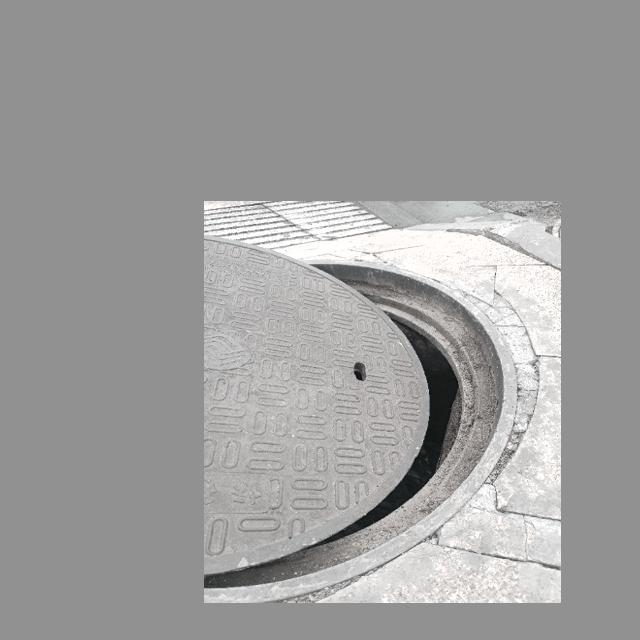uncovered: (205, 233, 518, 599)
